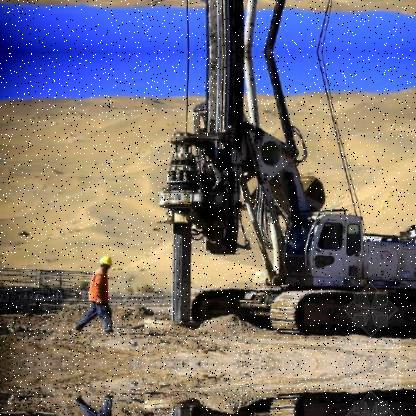Helmet: (96, 250, 116, 272)
